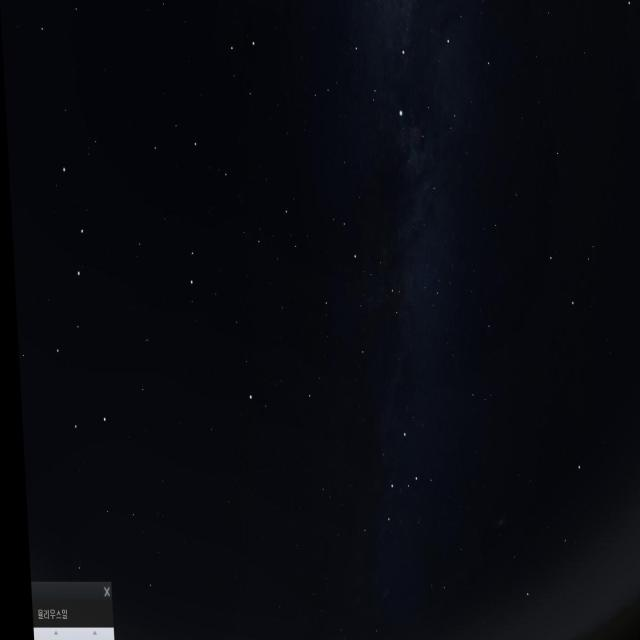cassiopeia: (338, 434, 443, 563)
cygnus: (340, 0, 462, 137)
ursa_major: (31, 149, 114, 465)
